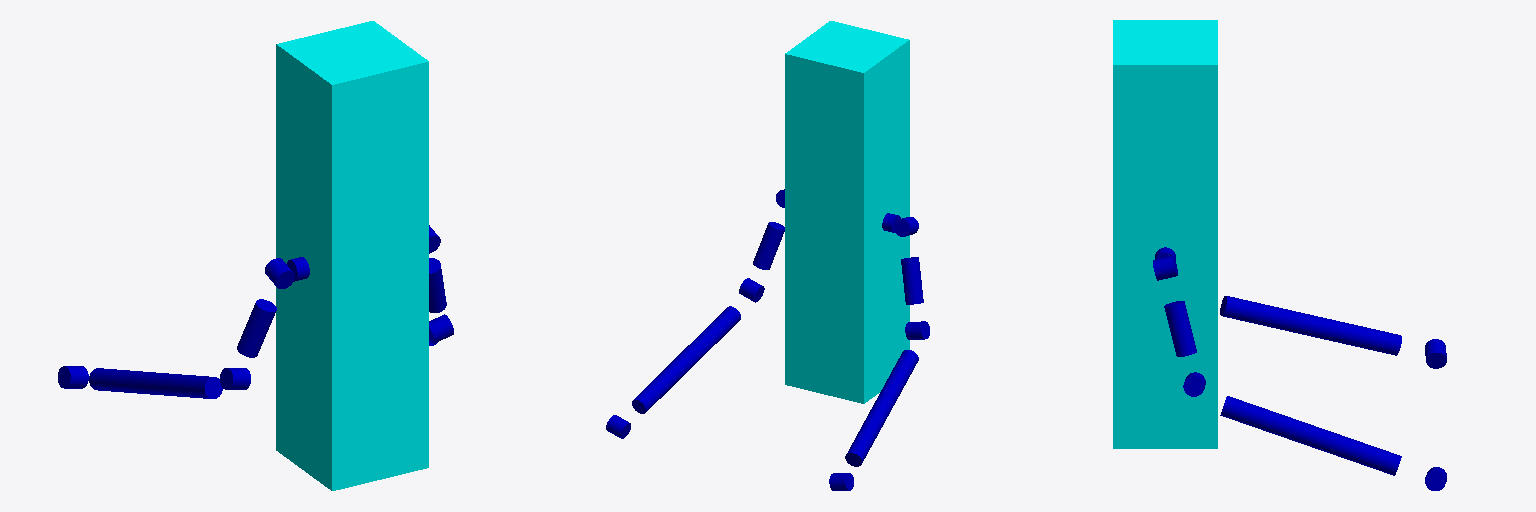
URDF robot description (abel):
<robot name="abel">

  <link name="base_link">
    <visual>
    <origin rpy="0 0 0" xyz="0 0 0"/>
      <geometry>
        <box size="0.2 0.2 0.8" />
      </geometry>
      <material name="white">
        <color rgba="0 1 1 1" />
      </material>
    </visual>
    <collision>
    <origin rpy="0 0 0" xyz="0 0 0"/>
      <geometry>
        <box size="0.2 0.2 0.8" />
      </geometry>
    </collision>
  </link>

  <joint name="joint_D6" type="revolute">
    <parent link="base_link"/>
    <child link="link_D6_D7"/>
    <origin xyz="-0.07 0 0" rpy="0 -1.57 0" />
    <axis xyz="0 0 -1" />
    <limit effort="300" lower="-0.2" upper="1.5" velocity="80"/>
    <safety_controller k_position="100" k_velocity="2" soft_lower_limit="-0.25" soft_upper_limit="1.57"/>
    <dynamics damping="0.5"/>
  </joint>

  <link name="link_D6_D7">   
  <visual>
  <origin rpy="0 0 0" xyz="0 0 0.03"/> 
      <geometry>
        <cylinder length="0.05" radius="0.02"/>
      </geometry>
      <material name="blue">
        <color rgba="0 0 .8 1"/>
      </material>
    </visual>
    <!-- <collision>
      <geometry>
        <cylinder length="0.05" radius="0.02"/>
      </geometry>
    </collision> -->
  </link>

  <joint name="joint_D7" type="revolute">
    <parent link="link_D6_D7"/>
    <child link="link_D7_D8"/>
    <origin xyz="0 0 0.08" rpy="-1.57 -1.309 -0.25" />
    <axis xyz="0 0 1" />
    <limit effort="300" lower="-0.04" upper="1.7" velocity="80"/>
    <safety_controller k_position="100" k_velocity="2" soft_lower_limit="-0.05" soft_upper_limit="1.57"/>
    <dynamics damping="0.5"/>
  </joint>

  <link name="link_D7_D8">
    <visual>
      <geometry>
        <cylinder length="0.04" radius="0.02"/>
      </geometry>
      <material name="blue">
        <color rgba="0 0 .8 1"/>
      </material>
    </visual>
    <collision>
      <geometry>
        <cylinder length="0.04" radius="0.02"/>
      </geometry>
    </collision>
  </link>

  <joint name="joint_D8" type="revolute">
    <parent link="link_D7_D8"/>
    <child link="link_D8_D9"/>
    <origin xyz="0 -0.10 0" rpy="-1.57 3.14 0" />
    <axis xyz="0 0 1" />
    <limit effort="300" lower="-2" upper="0.94" velocity="80"/>
    <safety_controller k_position="100" k_velocity="2" soft_lower_limit="-2.19" soft_upper_limit="0.95"/>
    <dynamics damping="0.5"/>
  </joint>

  <link name="link_D8_D9">
    <visual>
    <origin rpy="0 0 0" xyz="0 0 -0.02"/>
      <geometry>
        <cylinder length="0.1" radius="0.02"/>
      </geometry>
      <material name="blue">
        <color rgba="0 0 .8 1"/>
      </material>
    </visual>
    <collision>
    <origin rpy="0 0 0" xyz="0 0 -0.02"/>
      <geometry>
        <cylinder length="0.1" radius="0.02"/>
      </geometry>
    </collision>
  </link>

  <joint name="joint_D9" type="revolute">
    <parent link="link_D8_D9"/>
    <child link="link_D9_D10"/>
    <origin xyz="0 0 -0.13" rpy="0 -1.57 3.14" />
    <axis xyz="0 0 -1" />
    <limit effort="300" lower="-0.8" upper="0.7" velocity="80"/>
    <safety_controller k_position="100" k_velocity="2" soft_lower_limit="-1.4" soft_upper_limit="0.83"/>
    <dynamics damping="0.5"/>
  </joint>

  <link name="link_D9_D10">
    <visual>
      <geometry>
        <cylinder length="0.04" radius="0.02"/>
      </geometry>
      <material name="blue">
        <color rgba="0 0 .8 1"/>
      </material>
    </visual>
    <collision>
      <geometry>
        <cylinder length="0.04" radius="0.02"/>
      </geometry>
    </collision>
  </link>

  <joint name="joint_D10" type="revolute">
    <parent link="link_D9_D10"/>
    <child link="link_D10_EE"/>
    <origin xyz="-0.065 -0.065 0" rpy="3.14 -1.57 1" />
    <axis xyz="0 0 1" />
    <limit effort="300" lower="-0.93" upper="1.08" velocity="80"/>
    <safety_controller k_position="100" k_velocity="2" soft_lower_limit="-0.95" soft_upper_limit="1.09"/>
    <dynamics damping="0.5"/>
  </joint>

  <link name="link_D10_EE">
    <visual>
      <origin rpy="0 0 0" xyz="0 0 -0.15"/>
      <geometry>
        <cylinder length="0.35" radius="0.02"/>
      </geometry>
      <material name="blue">
        <color rgba="0 0 .8 1"/>
      </material>
    </visual>
    <collision>
    <origin rpy="0 0 0" xyz="0 0 -0.15"/>
      <geometry>
        <cylinder length="0.35" radius="0.02"/>
      </geometry>
    </collision>
  </link>

  <joint name="joint_EE_L" type="fixed">
    <parent link="link_D10_EE"/>
    <child link="link_EE_L"/>
    <origin xyz="0 0 -0.40" rpy="0 1.57 0" />
    <axis xyz="0 0 1" />
    <limit effort="300" lower="-0.25" upper="0.25" velocity="80"/>
    <safety_controller k_position="100" k_velocity="2" soft_lower_limit="-0.3" soft_upper_limit="0.3"/>
    <dynamics damping="0.5"/>
  </joint>

  <link name="link_EE_L">
    <visual>
      <geometry>
        <cylinder length="0.04" radius="0.02"/>
      </geometry>
      <material name="blue">
        <color rgba="0 0 .8 1"/>
      </material>
    </visual>
    <collision>
      <geometry>
        <cylinder length="0.04" radius="0.02"/>
      </geometry>
    </collision>
  </link>

  <!-- RIGHT ARM -->
  <joint name="joint_D11" type="revolute">
    <parent link="base_link"/>
    <child link="link_D11_D12"/>
    <origin xyz="0.07 0 0" rpy="0 -1.57 3.14" />
    <axis xyz="0 0 -1" />
    <limit effort="300" lower="-1.5" upper="0.2" velocity="80"/>
    <safety_controller k_position="100" k_velocity="2" soft_lower_limit="-1.57" soft_upper_limit="0.25"/>
    <dynamics damping="0.5"/>
  </joint>

  <link name="link_D11_D12">
    <visual>
    <origin rpy="0 0 0" xyz="0 0 0.03"/> 
      <geometry>
        <cylinder length="0.05" radius="0.02"/>
      </geometry>
      <material name="blue">
        <color rgba="0 0 .8 1"/>
      </material>
    </visual>
    <!-- <collision>
      <geometry>
        <cylinder length="0.05" radius="0.02"/>
      </geometry>
    </collision> -->
  </link>

  <joint name="joint_D12" type="revolute">
    <parent link="link_D11_D12"/>
    <child link="link_D12_D13"/>
    <origin xyz="0 0 0.08" rpy="-1.57 -1.309 0.25" />
    <axis xyz="0 0 -1" />
    <limit effort="300" lower="-1.2" upper="0.3" velocity="80"/>
    <safety_controller k_position="100" k_velocity="2" soft_lower_limit="-1.25" soft_upper_limit="0.31"/>
    <dynamics damping="0.5"/>
  </joint>

  <link name="link_D12_D13">
    <visual>
      <geometry>
        <cylinder length="0.04" radius="0.02"/>
      </geometry>
      <material name="blue">
        <color rgba="0 0 .8 1"/>
      </material>
    </visual>
    <collision>
      <geometry>
        <cylinder length="0.04" radius="0.02"/>
      </geometry>
    </collision>
  </link>

  <joint name="joint_D13" type="revolute">
    <parent link="link_D12_D13"/>
    <child link="link_D13_D14"/>
    <origin xyz="0 -0.10 0" rpy="-1.57 0 0" />
    <axis xyz="0 0 1" />
    <limit effort="300" lower="-0.87" upper="1.5" velocity="80"/>
    <safety_controller k_position="100" k_velocity="2" soft_lower_limit="-0.9" soft_upper_limit="1.57"/>
    <dynamics damping="0.5"/>
  </joint>

  <link name="link_D13_D14">
    <visual>
    <origin rpy="0 0 0" xyz="0 0 -0.02"/>

      <geometry>
        <cylinder length="0.1" radius="0.02"/>
      </geometry>
      <material name="blue">
        <color rgba="0 0 .8 1"/>
      </material>
    </visual>
    <collision>
      <geometry>
        <cylinder length="0.1" radius="0.02"/>
      </geometry>
    </collision>
  </link>

  <joint name="joint_D14" type="revolute">
    <parent link="link_D13_D14"/>
    <child link="link_D14_D15"/>
    <origin xyz="0 0 -0.13" rpy="0 -1.57 0" />
    <axis xyz="0 0 -1" />
    <limit effort="300" lower="-0.7" upper="0.8" velocity="80"/>
    <safety_controller k_position="100" k_velocity="2" soft_lower_limit="-1.1" soft_upper_limit="1.1"/>
    <dynamics damping="0.5"/>
  </joint>

  <link name="link_D14_D15">
    <visual>
      <geometry>
        <cylinder length="0.04" radius="0.02"/>
      </geometry>
      <material name="blue">
        <color rgba="0 0 .8 1"/>
      </material>
    </visual>
    <collision>
      <geometry>
        <cylinder length="0.04" radius="0.02"/>
      </geometry>
    </collision>
  </link>

  <joint name="joint_D15" type="revolute">
    <parent link="link_D14_D15"/>
    <child link="link_D15_EE"/>
    <origin xyz="-0.065 0.065 0" rpy="1 1.57 0" />
    <axis xyz="0 0 1" />
    <limit effort="300" lower="-1" upper="1" velocity="80"/>
    <safety_controller k_position="100" k_velocity="2" soft_lower_limit="-1.1" soft_upper_limit="1.1"/>
    <dynamics damping="0.5"/>
  </joint>

  <link name="link_D15_EE">
    <visual>
      <origin rpy="0 0 0" xyz="0 0 -0.15"/>
      <geometry>
        <cylinder length="0.35" radius="0.02"/>
      </geometry>
      <material name="blue">
        <color rgba="0 0 .8 1"/>
      </material>
    </visual>
    <collision>
    <origin rpy="0 0 0" xyz="0 0 -0.1"/>
      <geometry>
        <cylinder length="0.35" radius="0.02"/>
      </geometry>
    </collision>
  </link>

  <joint name="joint_EE_R" type="fixed">
    <parent link="link_D15_EE"/>
    <child link="link_EE_R"/>
    <origin xyz="0 0 -0.40" rpy="0 1.57 0" />
    <axis xyz="0 0 1" />
    <limit effort="300" lower="-0.25" upper="0.25" velocity="80"/>
    <safety_controller k_position="100" k_velocity="2" soft_lower_limit="-0.3" soft_upper_limit="0.3"/>
    <dynamics damping="0.5"/>
  </joint>

  <link name="link_EE_R">
    <visual>
      <geometry>
        <cylinder length="0.04" radius="0.02"/>
      </geometry>
      <material name="blue">
        <color rgba="0 0 .8 1"/>
      </material>
    </visual>
    <collision>
      <geometry>
        <cylinder length="0.04" radius="0.02"/>
      </geometry>
    </collision>
  </link> -->

</robot>

--- Render facts (derived) ---
The picture shows the robot from 3 angles, left to right: view 1: azimuth 30°, elevation 25°; view 2: azimuth 150°, elevation 25°; view 3: azimuth 270°, elevation 25°; orthographic projection.
Robot: abel — 13 links, 12 joints (10 revolute, 2 fixed); root link base_link; default pose: every joint at zero.
Visible links, largest first — view 1: base_link, link_D10_EE, link_D8_D9, link_D13_D14, link_EE_L, link_D7_D8, link_D9_D10, link_D14_D15; view 2: base_link, link_D15_EE, link_D10_EE, link_D13_D14, link_D8_D9; view 3: base_link, link_D15_EE, link_D10_EE, link_D13_D14, link_EE_L.
Boxes of the visible links, x1,y1,x2,y2 form: base_link: [276, 21, 428, 490]; link_D10_EE: [89, 368, 222, 398]; link_D8_D9: [237, 299, 276, 357]; link_D13_D14: [429, 258, 446, 312]; link_EE_L: [58, 366, 88, 388]; link_D7_D8: [265, 258, 294, 288]; link_D9_D10: [220, 368, 250, 389]; link_D14_D15: [429, 314, 453, 343]; base_link: [785, 21, 909, 403]; link_D15_EE: [632, 306, 740, 413]; link_D10_EE: [845, 350, 918, 466]; link_D13_D14: [753, 222, 784, 269]; link_D8_D9: [901, 257, 923, 304]; base_link: [1113, 20, 1217, 448]; link_D15_EE: [1220, 396, 1401, 475]; link_D10_EE: [1220, 296, 1401, 355]; link_D13_D14: [1164, 301, 1196, 356]; link_EE_L: [1425, 339, 1446, 368].
Bounding box of the posed robot: 0.6132 × 0.6327 × 0.8042 m (x, y, z).
Geometry: primitives only (box / cylinder / sphere), no mesh files.
